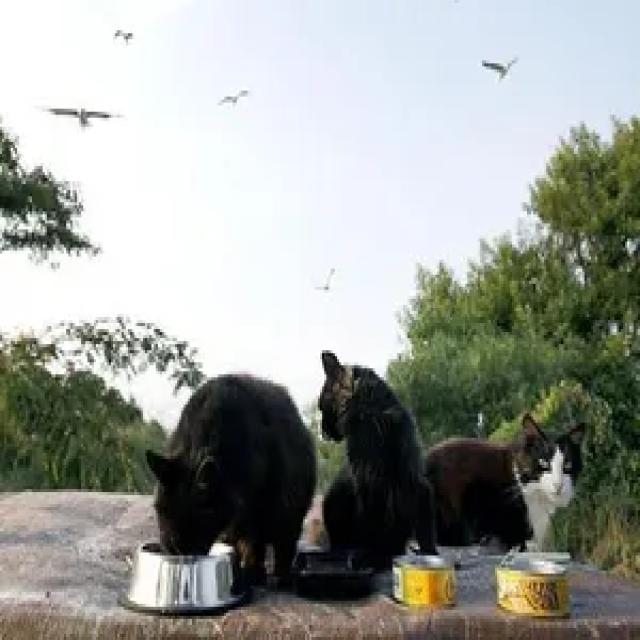cat: (148, 375, 316, 590), (299, 353, 436, 578), (428, 414, 582, 549)
